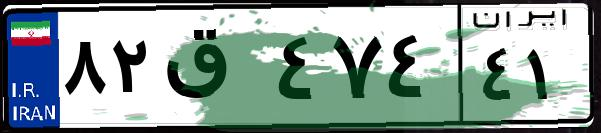1: (525, 38, 570, 115)
2: (110, 28, 158, 98)
4: (270, 28, 330, 110), (385, 28, 445, 110), (475, 38, 525, 113)
7: (330, 28, 385, 110)
8: (57, 26, 110, 100)
ق: (158, 20, 270, 120)
